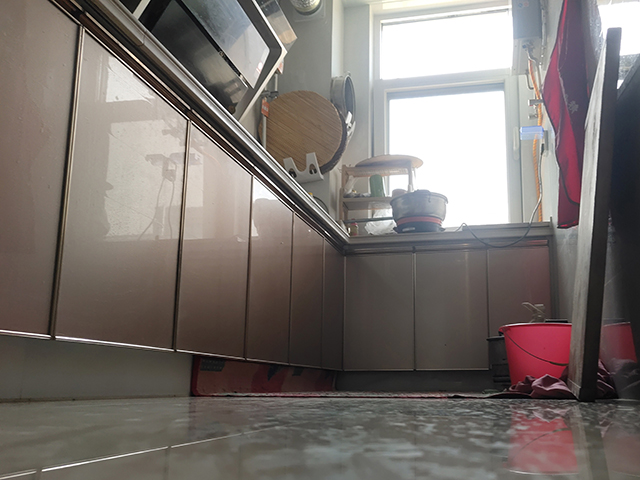cabinet: (1, 1, 340, 395), (341, 233, 492, 392)
carpet: (190, 351, 621, 401)
